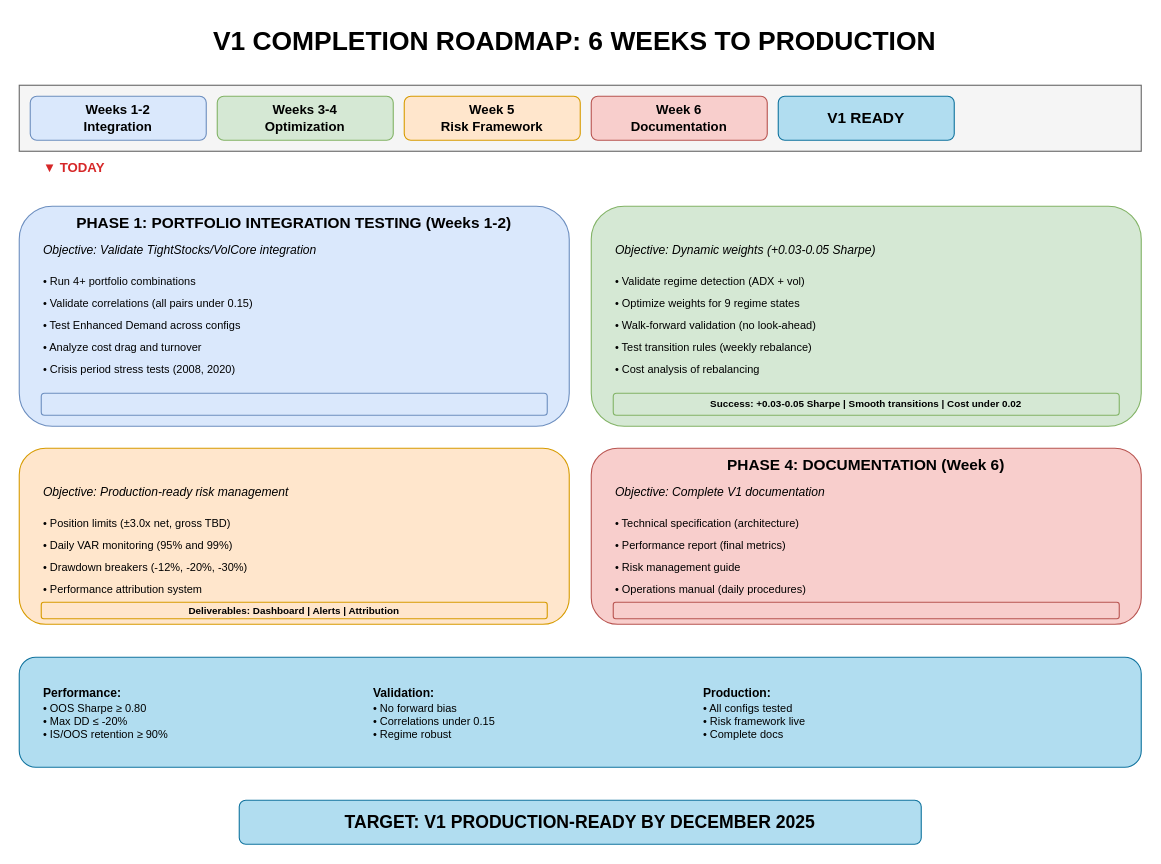
This 1161x864 diagram has some shape labels left out. The shapes that lost their labels are listed below. From the top down, each one's box as (x1, y1, x2, y2) in pixels, then its label:
(590, 205, 1141, 426): PHASE 2: REGIME OPTIMIZATION (Weeks 3-4)
(40, 392, 547, 415): Success: OOS Sharpe ≥0.75 | Correlations under 0.15 | DD ≤-20%
(18, 447, 569, 624): PHASE 3: RISK FRAMEWORK (Week 5)
(612, 601, 1119, 619): Deliverables: Tech Spec | Perf Report | Ops Manual
(18, 656, 1141, 767): V1 SUCCESS CRITERIA
